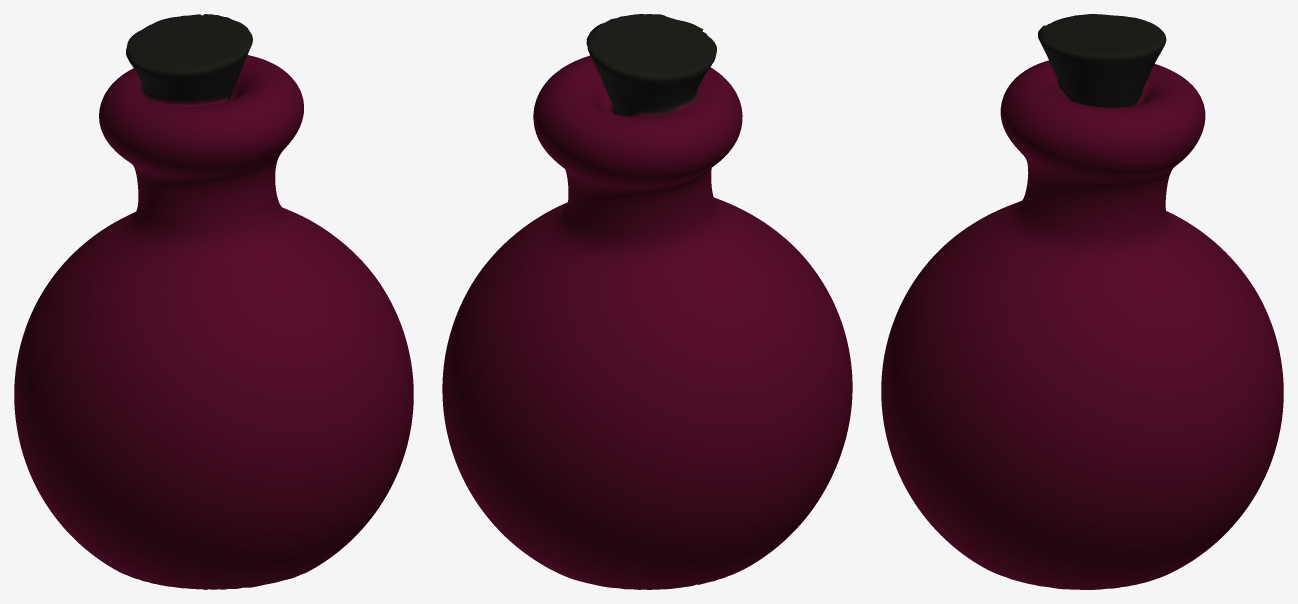
The model's file is trankneu3.fbx.
3 views of the same model, side by side, from view 1: azimuth 30°, elevation 25°; view 2: azimuth 150°, elevation 25°; view 3: azimuth 270°, elevation 25° (orthographic).
Visible parts, largest first — view 1: ReferenceModel_Selection_5; view 2: ReferenceModel_Selection_5; view 3: ReferenceModel_Selection_5.
Boxes of the visible parts, x1,y1,x2,y2 form: ReferenceModel_Selection_5: [14, 14, 413, 589]; ReferenceModel_Selection_5: [442, 14, 852, 589]; ReferenceModel_Selection_5: [881, 14, 1283, 589].
Bounding box in the file's own units: 33.83 × 46.94 × 33.85.
